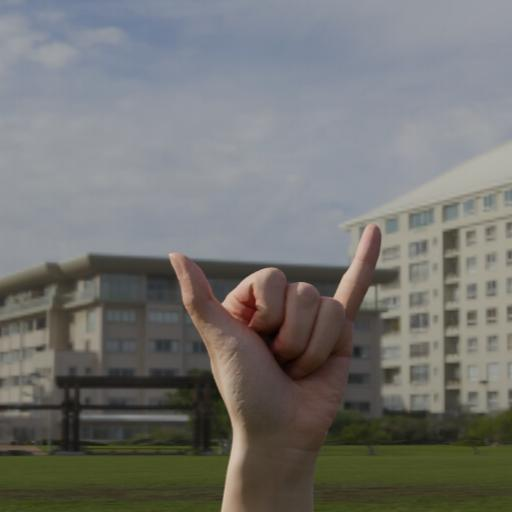Y: (168, 215, 382, 458)
